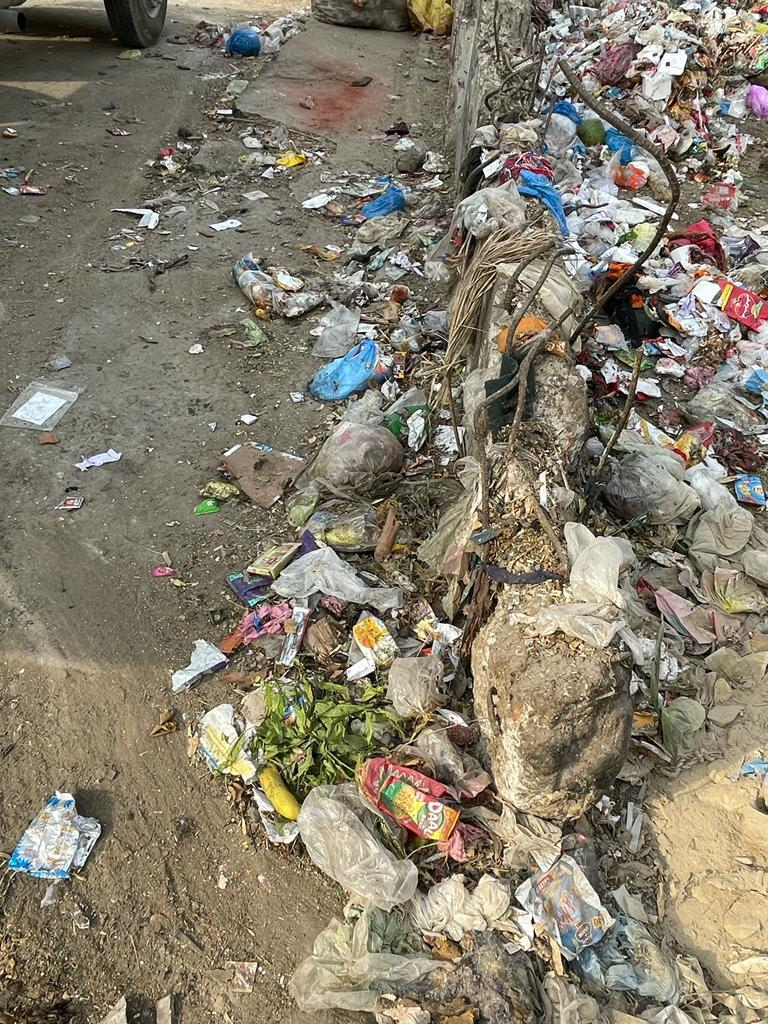garbage: (193, 0, 768, 1024)
